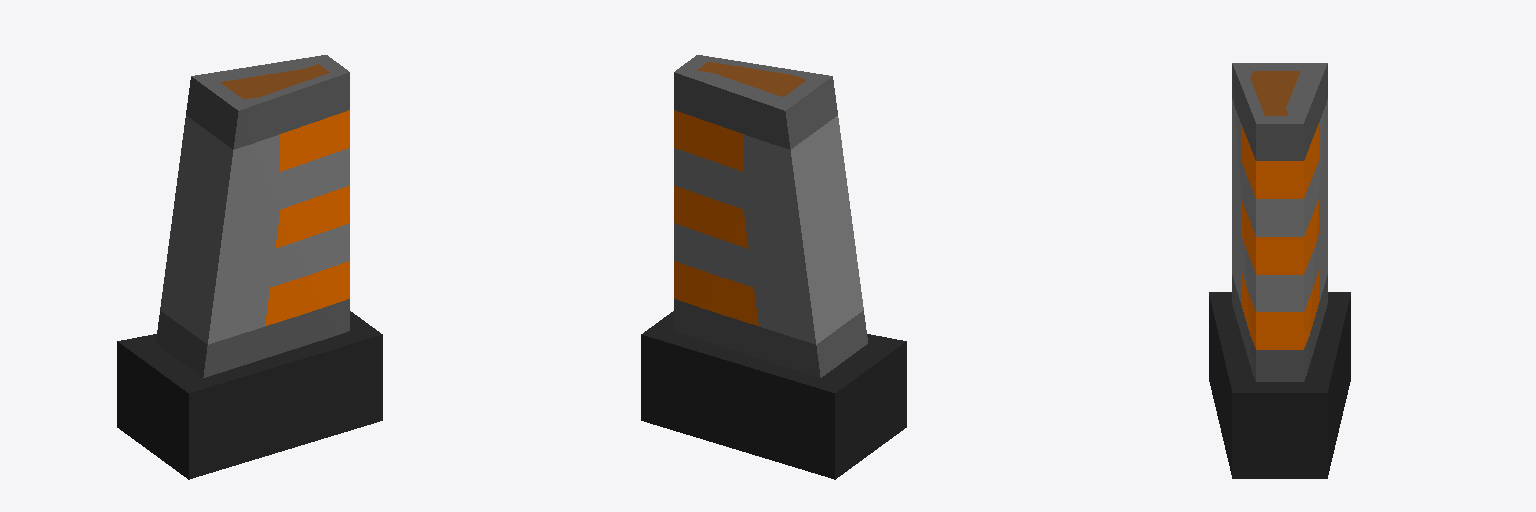
3 views of the same model, side by side, from view 1: azimuth 30°, elevation 25°; view 2: azimuth 150°, elevation 25°; view 3: azimuth 270°, elevation 25° (orthographic).
Parts seen in each view (by area): view 1: cuboid; view 2: cuboid; view 3: cuboid.
Boxes of the visible parts, x1=… form: cuboid: x1=117, y1=55, x2=382, y2=479; cuboid: x1=641, y1=55, x2=906, y2=479; cuboid: x1=1209, y1=63, x2=1350, y2=478.
Size of the model in its own units: 0.0625 by 0.1 by 0.0375.
Materials: 2 (2 with a texture image).